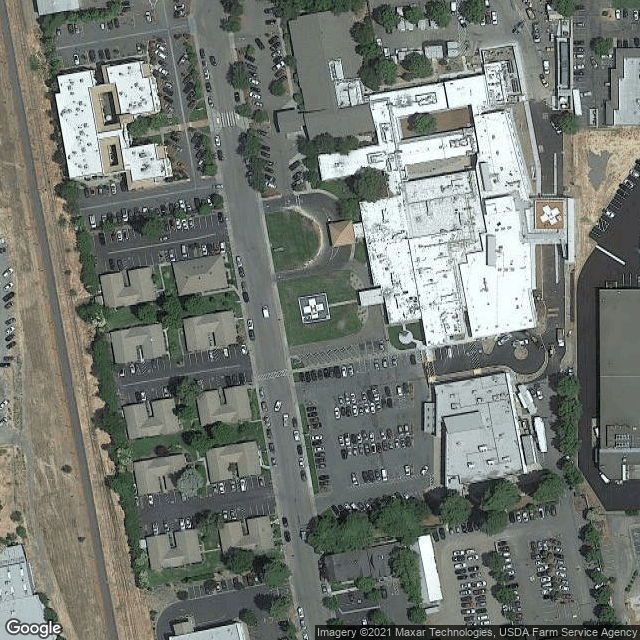Helipad: (293, 290, 334, 327), (530, 194, 568, 232)
